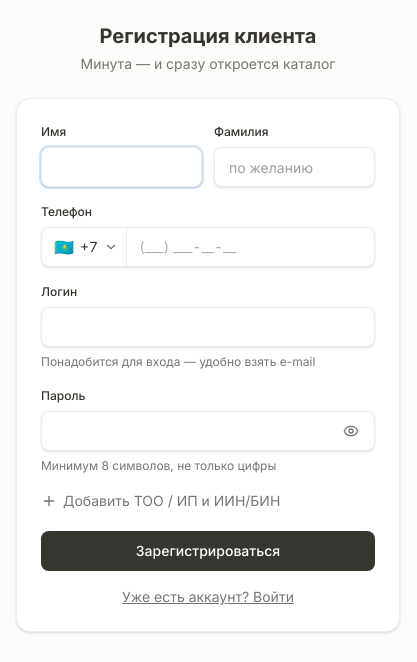
Scenario: RegisterPage › не отправляет неполный номер и говорит, сколько цифр не хватает
In the field labelled "Имя": (122, 167) [41,147,202,187], type "Бахредин"
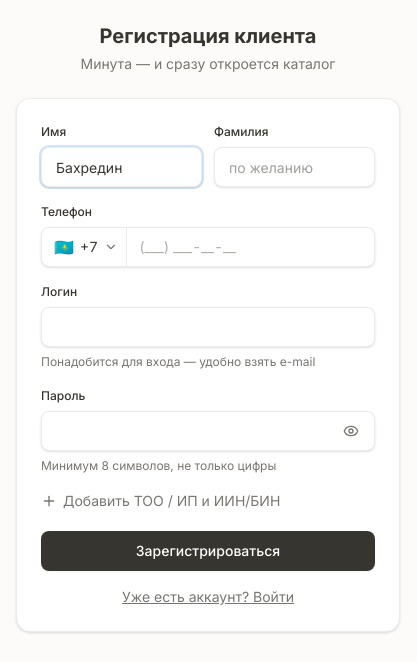
In the field labelled "Телефон": (251, 247) [127,228,374,266], type "70556"
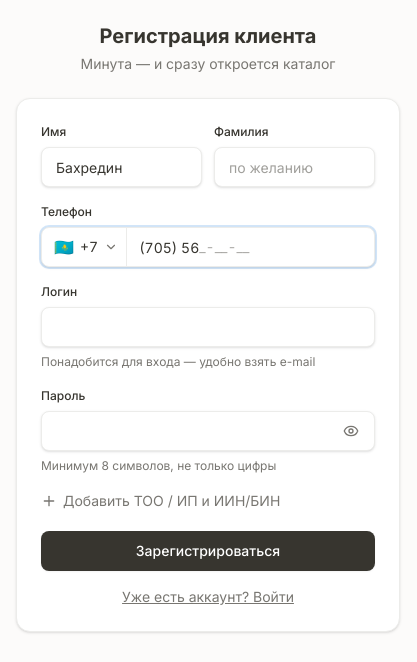
In the field labelled "Логин": (208, 327) [41,307,375,347], type "baha@gmail.com"
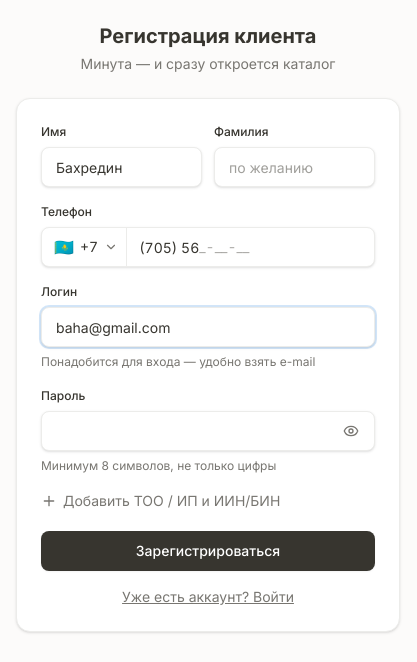
In the password field labelled "Пароль": (208, 431) [41,411,375,451], type "strong-password"
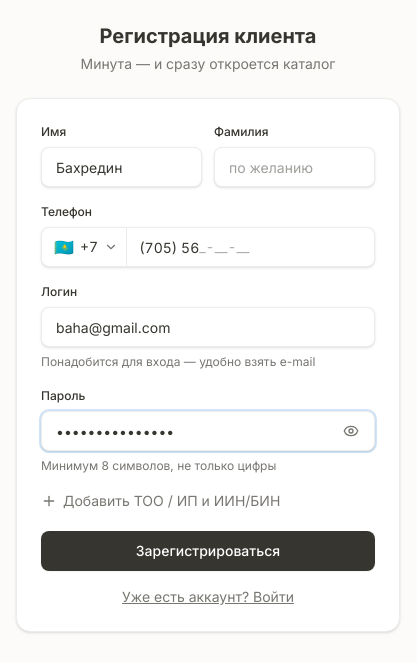
Click the button "Зарегистрироваться": (208, 551) [41,531,375,571]
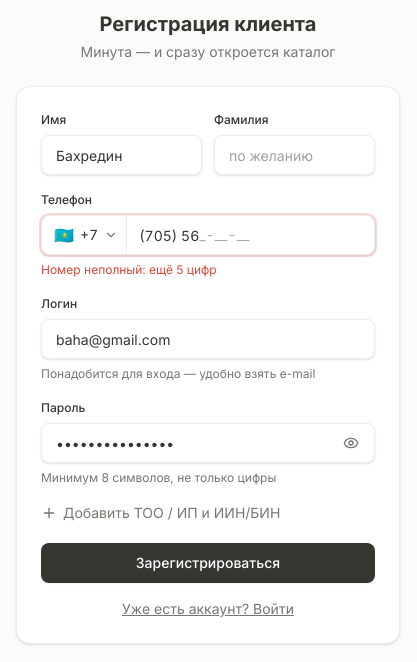
Now the text "Номер неполный: ещё 5 цифр" is shown, box [41,262,217,277]
